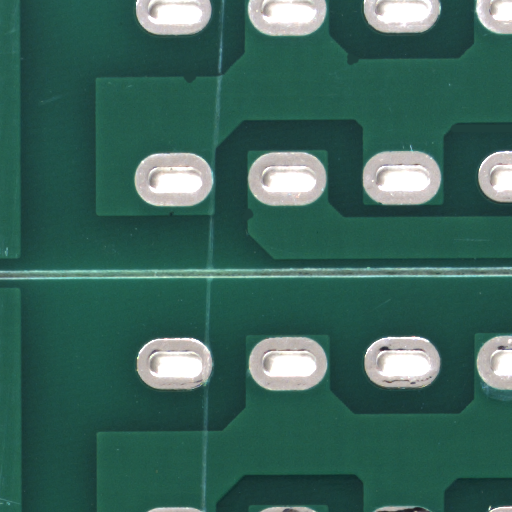Mouse_bite: (352, 59, 366, 72), (250, 216, 257, 230), (190, 79, 203, 86)
